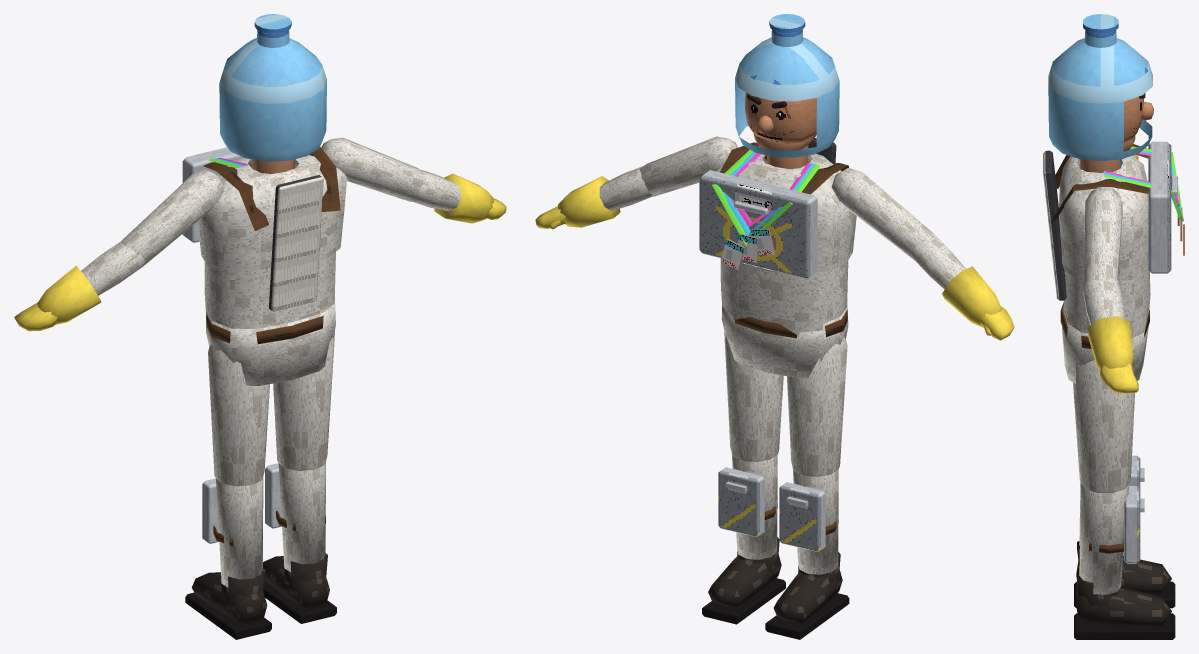
The model's file is s_raider_cabinet.glb.
The picture shows the model from 3 angles, left to right: view 1: azimuth 30°, elevation 25°; view 2: azimuth 150°, elevation 25°; view 3: azimuth 270°, elevation 25°; orthographic projection. The views are drawn at different scales.
Parts seen in each view (by area): view 1: chest_m, head_m, legL_m, hips_m, legR_m, shinL_m, shinR_m, spine_m, armL_m, footL_m, foreL_m, footR_m (+3 smaller); view 2: chest_m, head_m, spine_m, legL_m, shinR_m, shinL_m, hips_m, legR_m, armL_m, footR_m, footL_m, foreL_m (+3 smaller); view 3: chest_m, head_m, legR_m, shinR_m, footR_m, foreR_m, armR_m, spine_m, hips_m, footL_m, handR_m, neck_m (+1 smaller).
Boxes of the visible parts, x1=… form: chest_m: x1=182, y1=146, x2=346, y2=312; head_m: x1=219, y1=14, x2=326, y2=161; legL_m: x1=208, y1=344, x2=269, y2=486; hips_m: x1=206, y1=303, x2=335, y2=385; legR_m: x1=273, y1=331, x2=334, y2=470; shinL_m: x1=202, y1=477, x2=263, y2=587; shinR_m: x1=265, y1=462, x2=325, y2=572; spine_m: x1=204, y1=252, x2=335, y2=328; armL_m: x1=120, y1=169, x2=224, y2=267; footL_m: x1=185, y1=568, x2=271, y2=639; foreL_m: x1=37, y1=241, x2=144, y2=324; footR_m: x1=263, y1=553, x2=336, y2=623; chest_m: x1=699, y1=138, x2=856, y2=278; head_m: x1=735, y1=14, x2=839, y2=157; spine_m: x1=720, y1=258, x2=848, y2=335; legL_m: x1=787, y1=337, x2=847, y2=476; shinR_m: x1=718, y1=453, x2=777, y2=559; shinL_m: x1=779, y1=468, x2=838, y2=574; hips_m: x1=721, y1=305, x2=848, y2=378; legR_m: x1=724, y1=332, x2=783, y2=461; armL_m: x1=831, y1=168, x2=935, y2=260; footR_m: x1=702, y1=537, x2=785, y2=624; footL_m: x1=765, y1=552, x2=849, y2=639; foreL_m: x1=910, y1=235, x2=1001, y2=327; chest_m: x1=1043, y1=141, x2=1184, y2=300; head_m: x1=1048, y1=14, x2=1153, y2=161; legR_m: x1=1073, y1=359, x2=1134, y2=492; shinR_m: x1=1079, y1=483, x2=1144, y2=594; footR_m: x1=1074, y1=571, x2=1175, y2=639; foreR_m: x1=1083, y1=278, x2=1133, y2=370; armR_m: x1=1084, y1=187, x2=1122, y2=282; spine_m: x1=1063, y1=264, x2=1150, y2=338; hips_m: x1=1060, y1=303, x2=1149, y2=383; footL_m: x1=1074, y1=541, x2=1175, y2=608; handR_m: x1=1100, y1=363, x2=1138, y2=393; neck_m: x1=1080, y1=159, x2=1119, y2=172.
Size of what is drawn, in the model's own units: 1.69 by 2 by 0.4331.
Materials: 3 (3 with a texture image).
